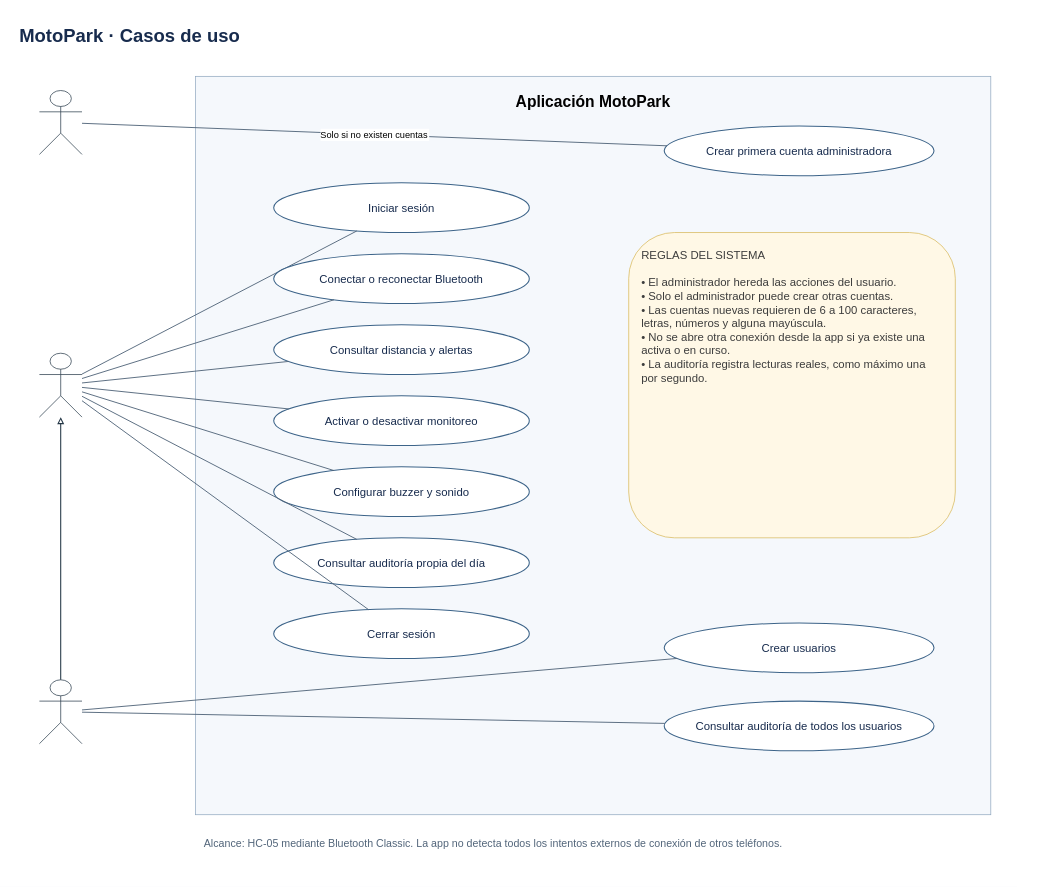
The diagram is 1060 pixels wide and 887 high, and some of its shapes have lost their labels. Here are the shapes that lost their labels. From the top down, the centre of each, then its label:
point 60,122: Persona sin cuenta
point 60,385: Usuario
point 60,711: Administrador
